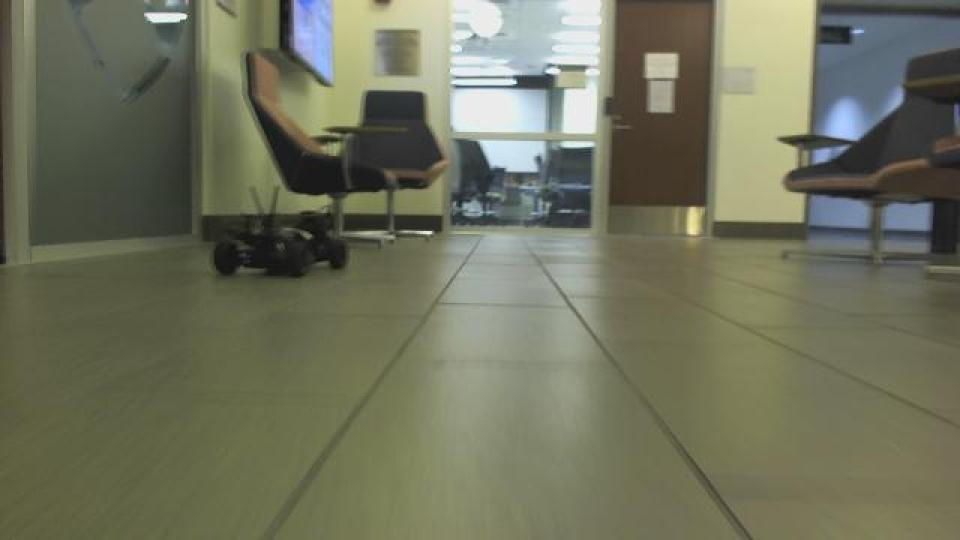car: (774, 44, 957, 270), (207, 183, 349, 281)
